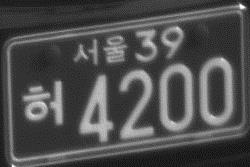0: (157, 61, 195, 134), (197, 56, 236, 127)
2: (118, 67, 155, 142)
3: (132, 27, 159, 63)
4: (76, 74, 116, 144)
9: (160, 25, 187, 61)
서울_O: (71, 35, 127, 66)
허: (21, 77, 66, 128)
